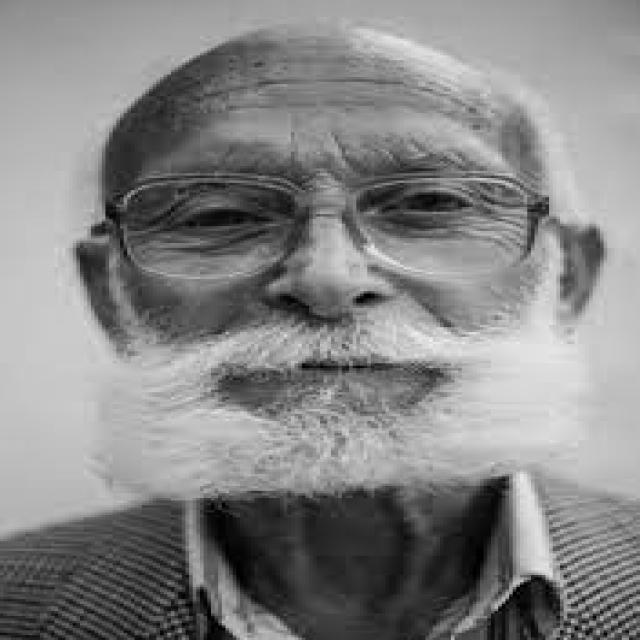Glasses: (102, 168, 557, 282)
